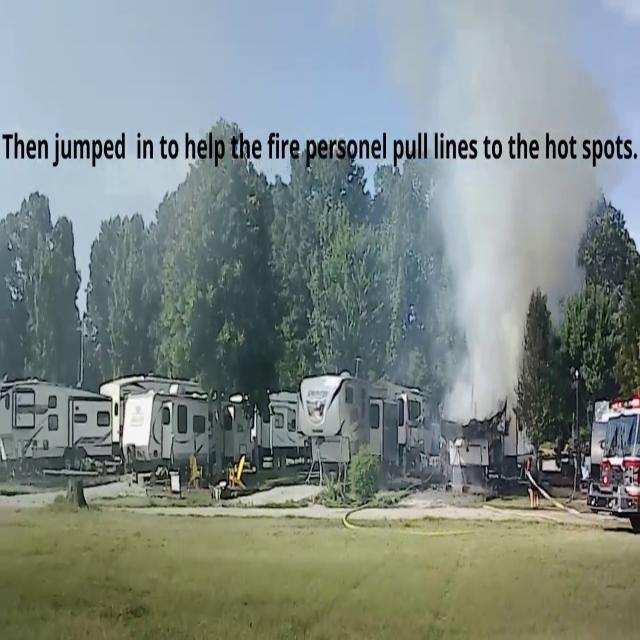Smoke: (408, 0, 604, 415)
